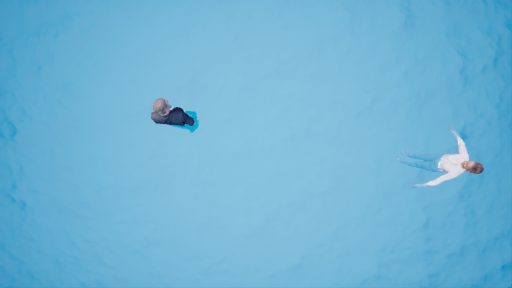person: (396, 122, 488, 192), (141, 88, 205, 135)
